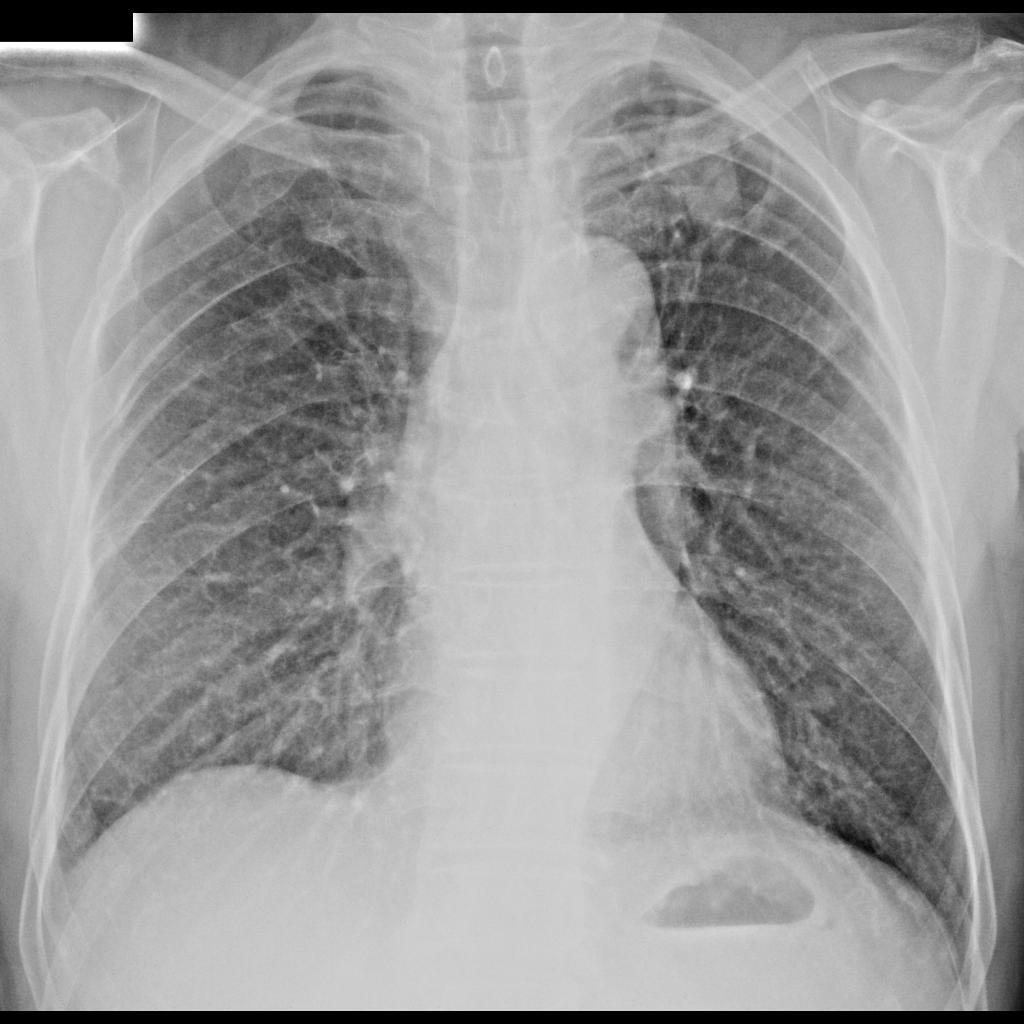Nodule: (662, 142, 748, 228)
